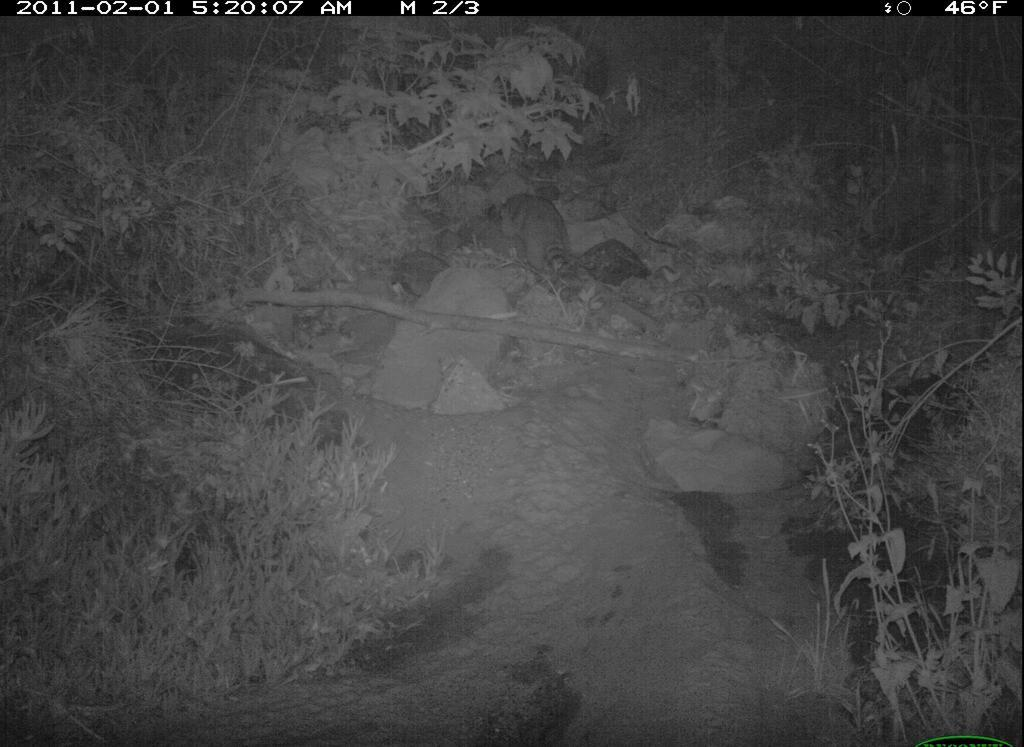raccoon: (489, 180, 612, 313)
